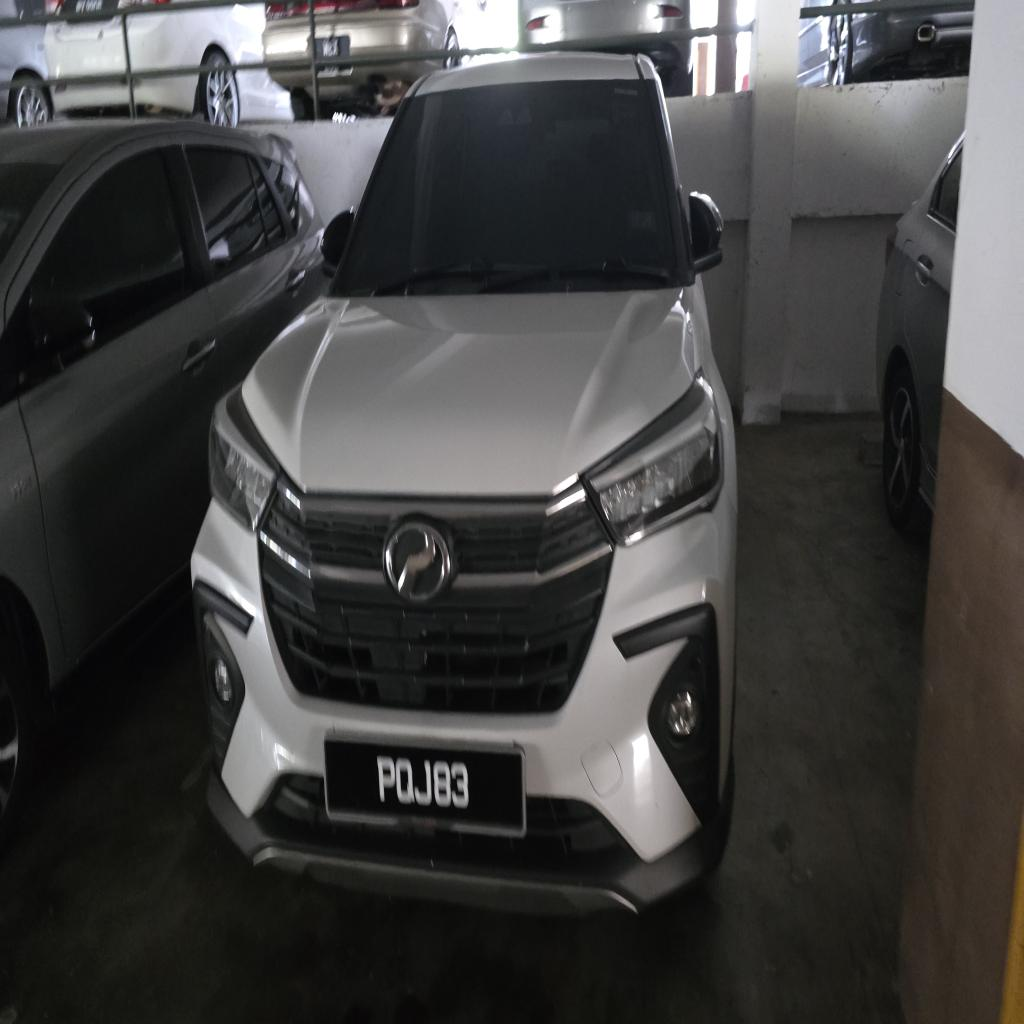car: (192, 56, 736, 909)
car plate: (325, 738, 525, 835)
